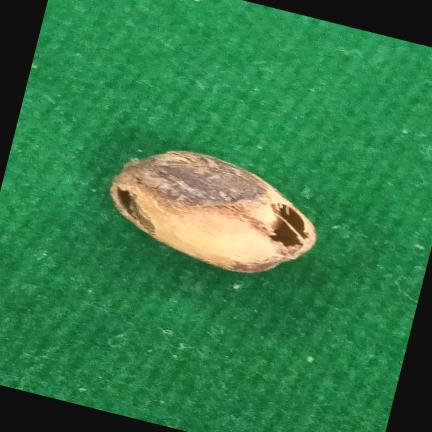husk: (110, 151, 315, 272)
